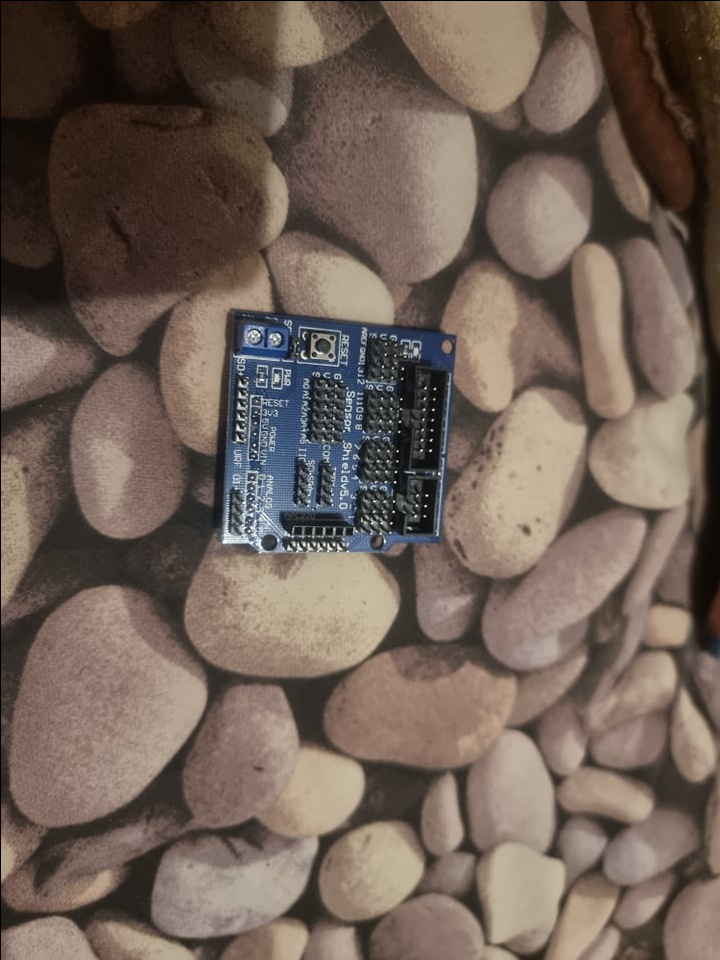5V EXPANSION: (224, 312, 457, 550)
